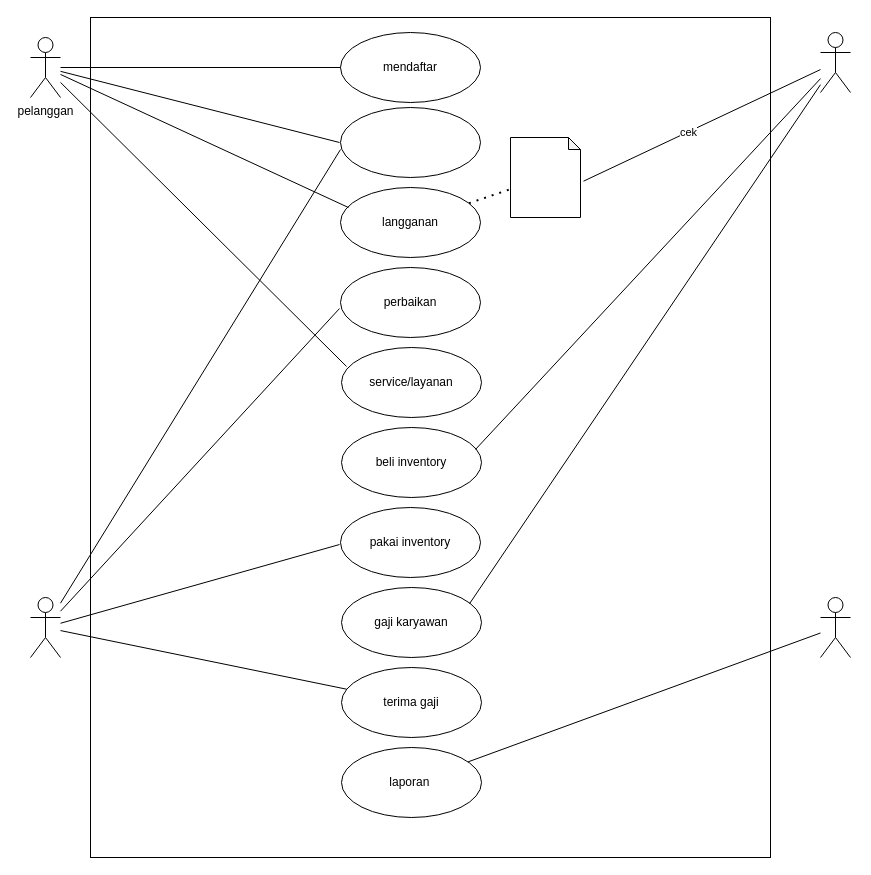
Some shapes in this 871 by 875 pixel diagram are drawn without their labels. The shapes that lost their labels are listed below. From the top down, each one's centre as x and y in pixels, then its label:
[835,62]: admin
[410,142]: pasang baru
[545,177]: bulanan, pause, stop
[45,627]: teknisi
[835,627]: pemilik
